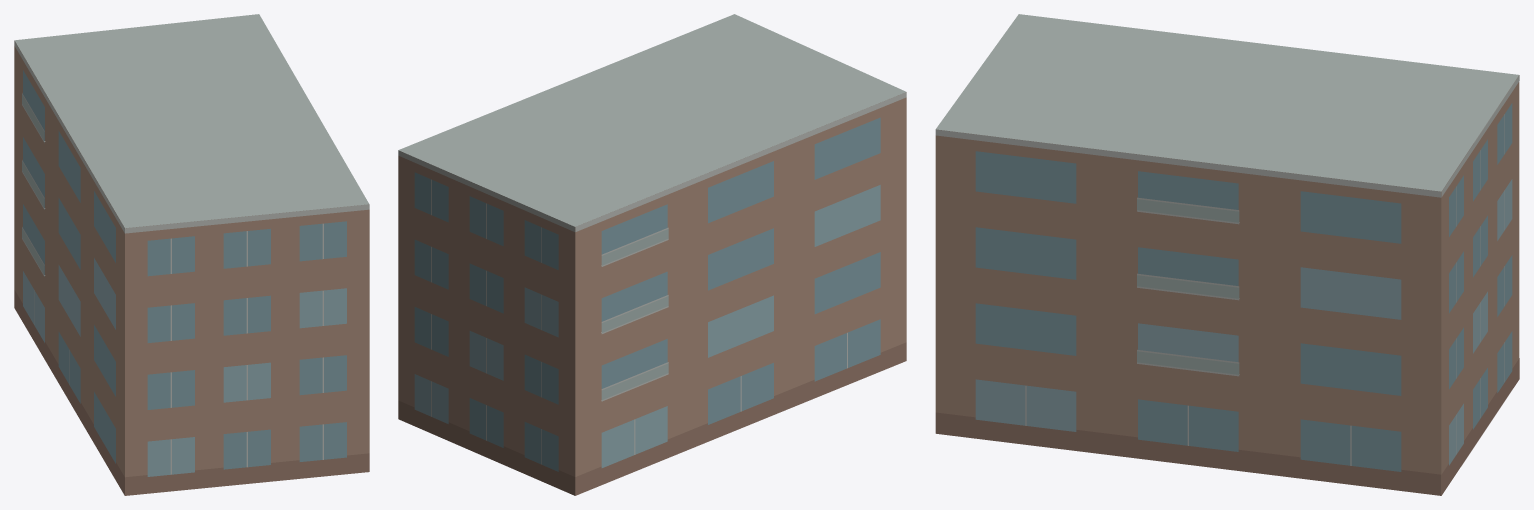
The model's file is survey-upis-32856492.glb.
3 views of the same model, side by side, from view 1: azimuth 30°, elevation 25°; view 2: azimuth 150°, elevation 25°; view 3: azimuth 270°, elevation 25° (orthographic). The views are drawn at different scales.
Visible parts, largest first — view 1: survey-upis-32856492.tmp; view 2: survey-upis-32856492.tmp; view 3: survey-upis-32856492.tmp.
Part boxes in pixels (box(x1,y1,x2,y2)): survey-upis-32856492.tmp: box(14, 14, 369, 495); survey-upis-32856492.tmp: box(398, 14, 906, 495); survey-upis-32856492.tmp: box(935, 14, 1519, 495).
Size of the model in its own units: 15.28 by 12.2 by 21.23.
